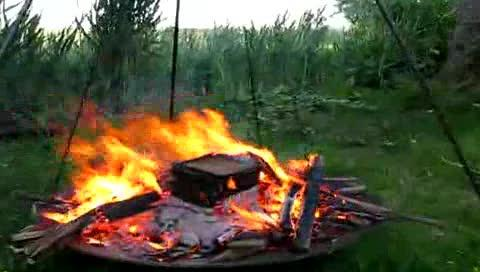fire: (82, 88, 317, 222)
